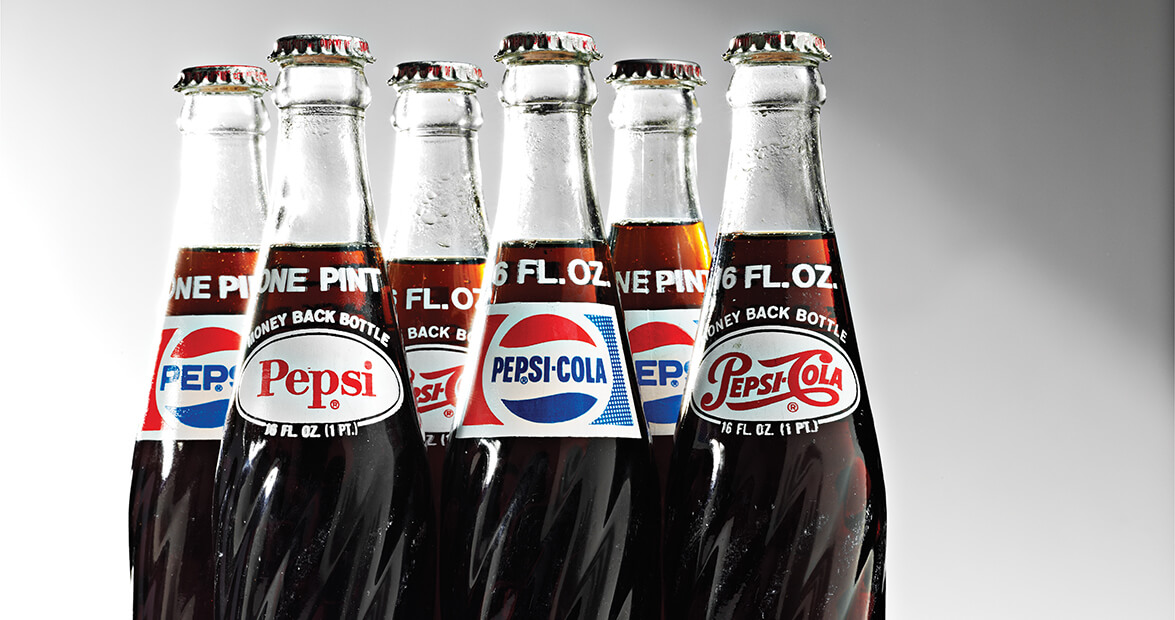pepsi: (496, 309, 604, 426), (166, 323, 242, 426), (622, 320, 695, 423)
